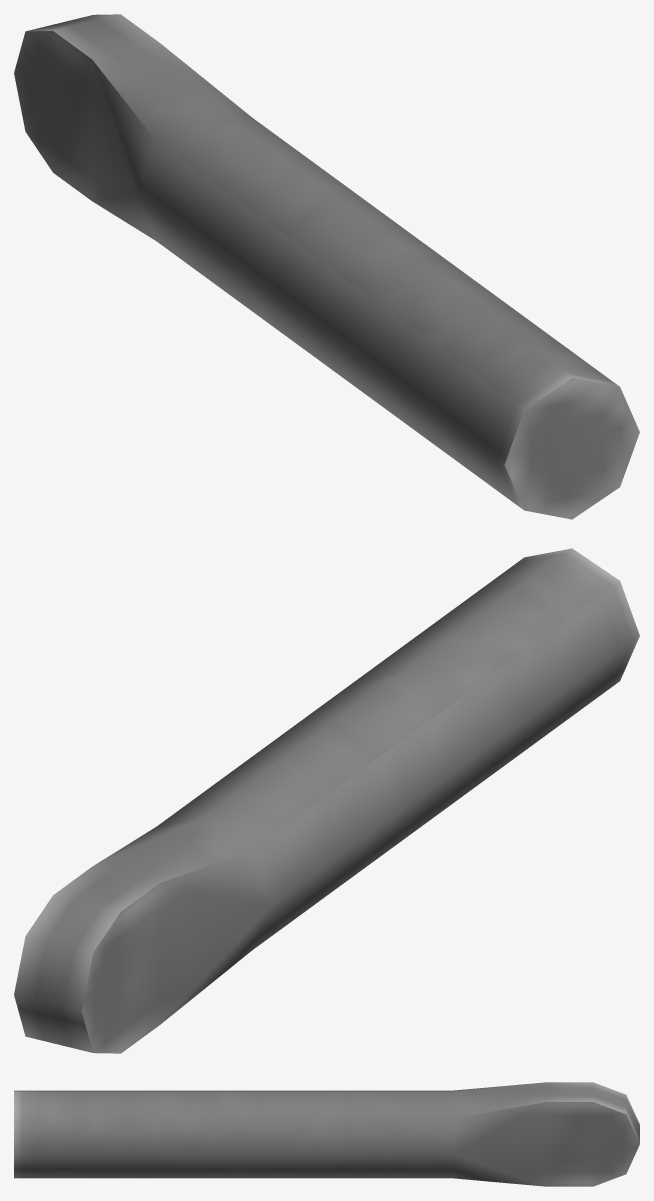
The model's file is le5a_small_piston.obj.
The picture shows the model from 3 angles, top to bottom: view 1: azimuth 30°, elevation 25°; view 2: azimuth 150°, elevation 25°; view 3: azimuth 270°, elevation 25°; orthographic projection. The views are drawn at different scales.
Parts seen in each view (by area): view 1: small_piston; view 2: small_piston; view 3: small_piston.
Boxes of the visible parts, box(x1,y1,x2,y2) form: small_piston: box(14, 14, 639, 519); small_piston: box(14, 548, 639, 1053); small_piston: box(14, 1082, 639, 1186).
Bounding box in the file's own units: 0.025 × 0.025 × 0.1675.
1 material, 1 textured.
